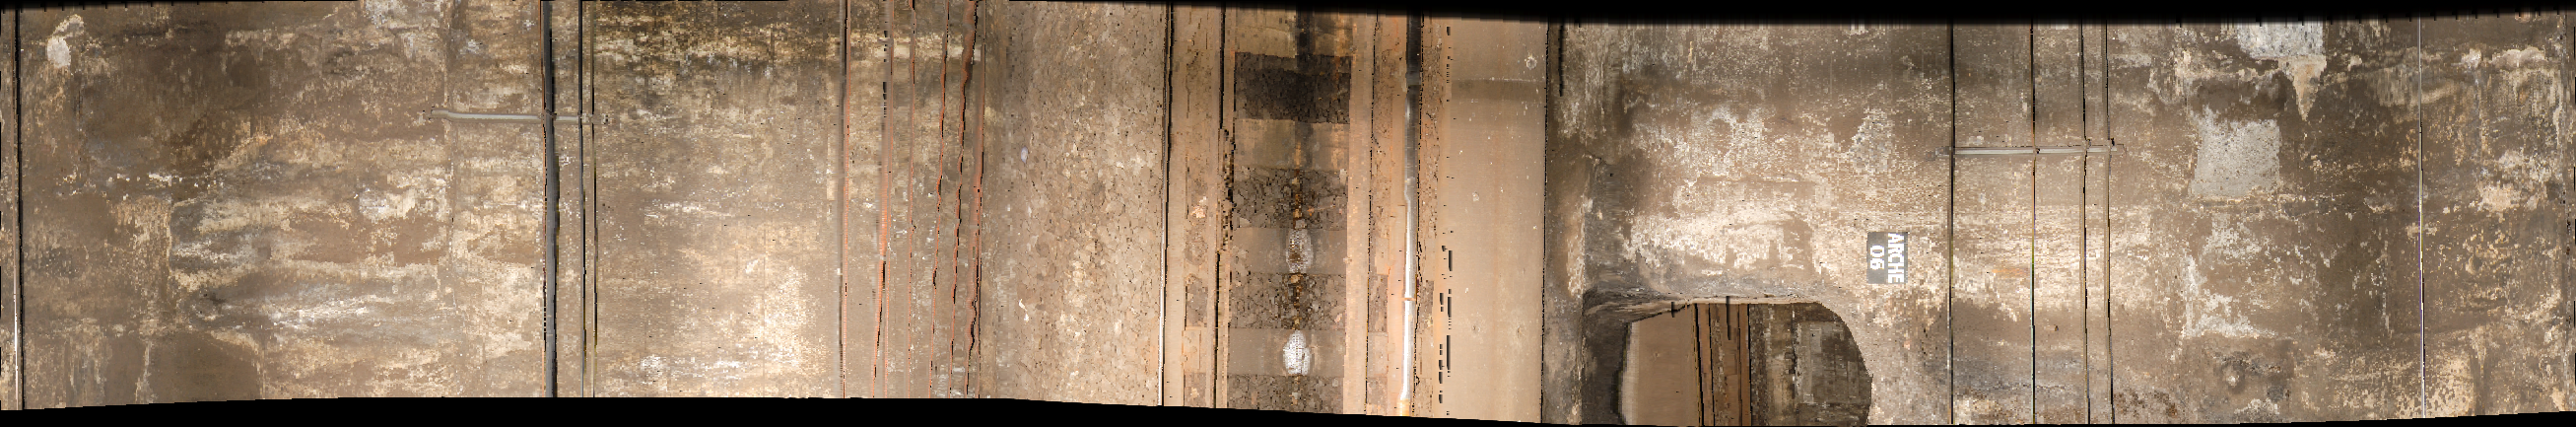pipes: (838, 2, 986, 409), (539, 10, 606, 427), (2072, 30, 2121, 427), (8, 5, 33, 420), (2021, 21, 2045, 427), (1943, 31, 1966, 427), (2410, 16, 2430, 427)
sign: (1871, 232, 1911, 286)
tracks: (1163, 7, 1439, 427)
